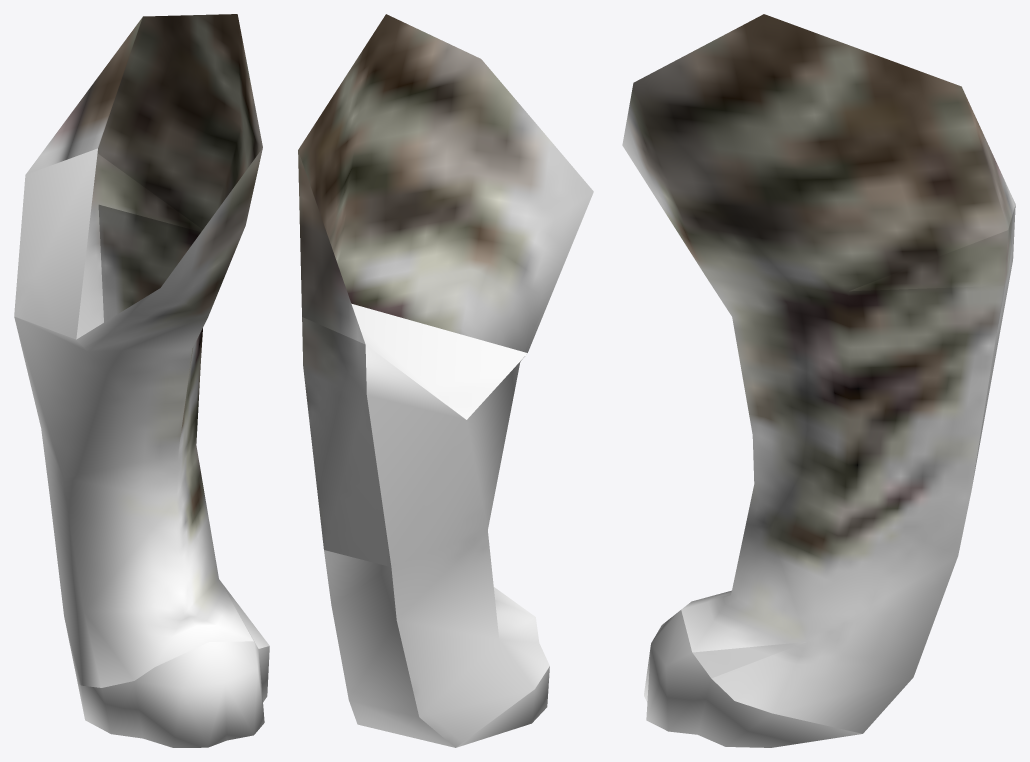
File: l_arm.obj
3 views of the same model, side by side, from view 1: azimuth 30°, elevation 25°; view 2: azimuth 150°, elevation 25°; view 3: azimuth 270°, elevation 25° (orthographic). The views are drawn at different scales.
Parts seen in each view (by area): view 1: vsn_mesh_2__mesh_2_.004; view 2: vsn_mesh_2__mesh_2_.004; view 3: vsn_mesh_2__mesh_2_.004.
Boxes of the visible parts, <box> form: vsn_mesh_2__mesh_2_.004: <box>14,14,269,747</box>; vsn_mesh_2__mesh_2_.004: <box>298,14,593,747</box>; vsn_mesh_2__mesh_2_.004: <box>622,14,1015,747</box>.
Size of the model in its own units: 0.4732 by 1.81 by 0.8578.
Materials: 2 (2 with a texture image).
